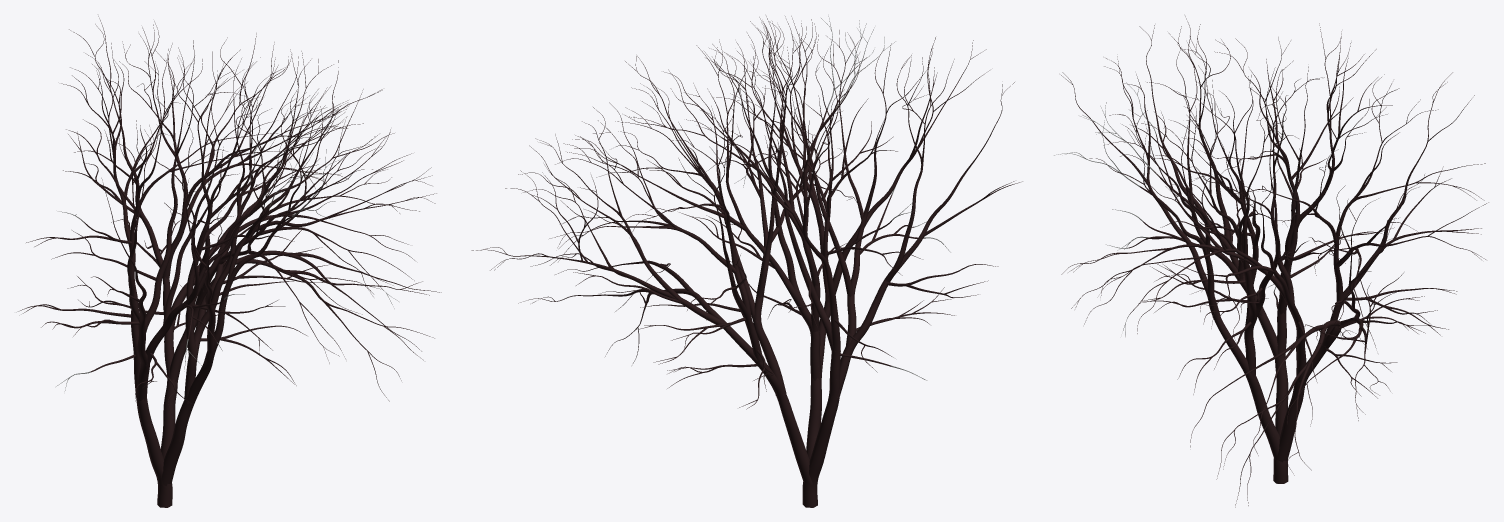
3 renders of one model, left to right at view 1: azimuth 30°, elevation 25°; view 2: azimuth 150°, elevation 25°; view 3: azimuth 270°, elevation 25°, orthographic. The views are drawn at different scales.
Visible parts, largest first — view 1: node_id4; view 2: node_id4; view 3: node_id4.
Part boxes in pixels (left/top/right/bottom): node_id4: left=16, top=16, right=441, bottom=507; node_id4: left=471, top=16, right=1022, bottom=507; node_id4: left=1054, top=16, right=1488, bottom=507.
Size of the model in its own units: 0.5108 by 0.512 by 0.4618.
1 material, 1 textured.
